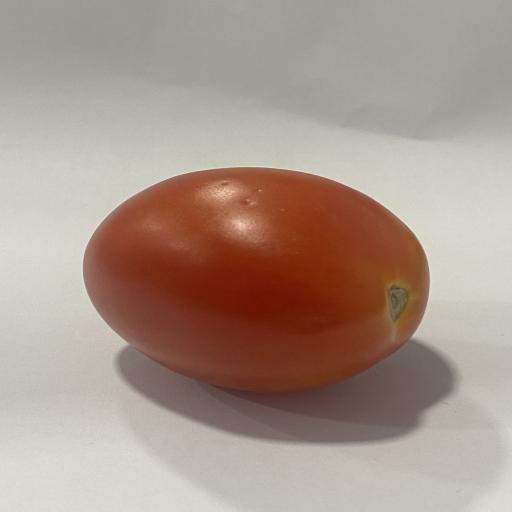ripe: (83, 167, 429, 392)
